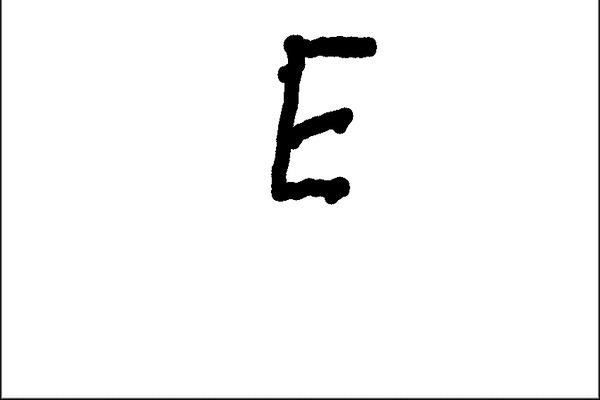E: (262, 28, 380, 210)
